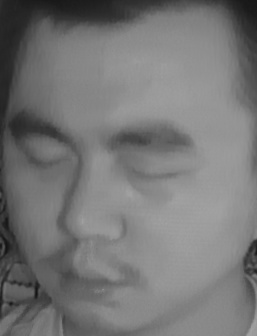blink: (128, 151, 186, 192), (18, 143, 70, 178)
mouth: (49, 249, 130, 305)
